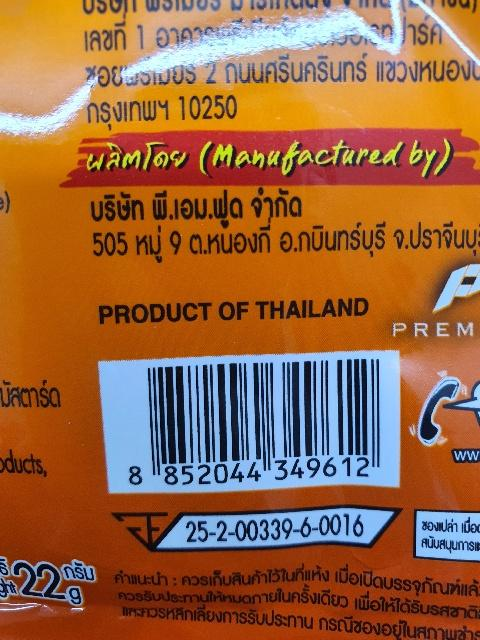Barcode: (110, 349, 399, 491)
